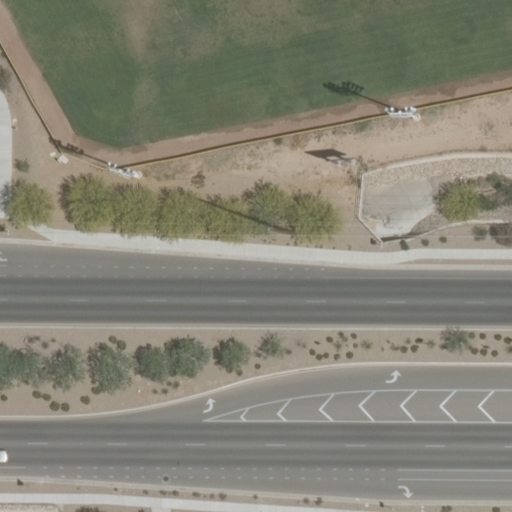DT: (260, 217, 307, 246)
